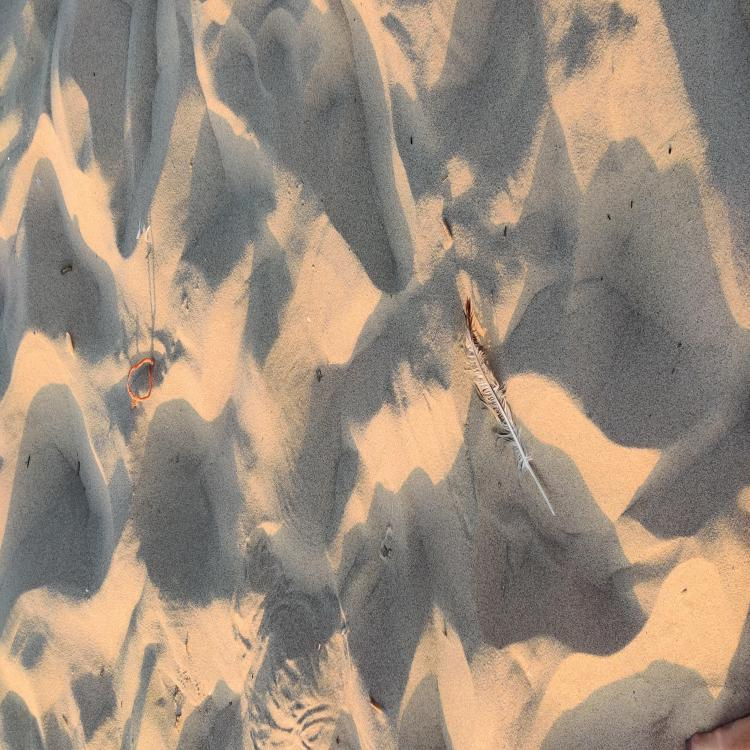Rope - strings: (126, 356, 154, 408)
